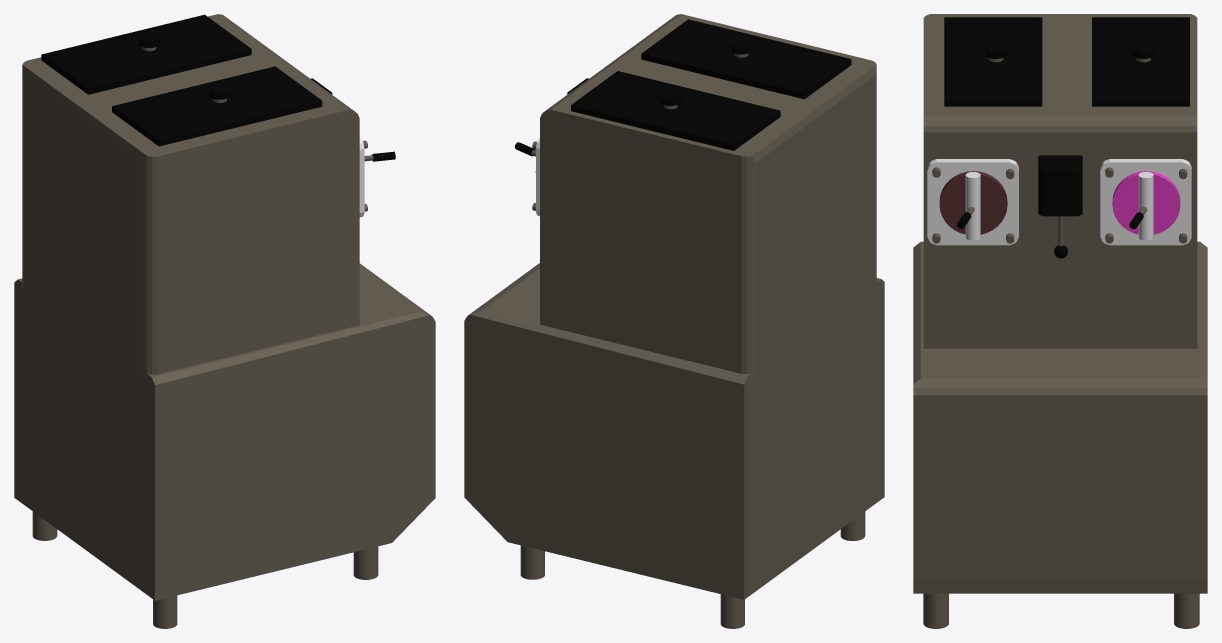
File: smoothie.fbx
3 views of the same model, side by side, from view 1: azimuth 30°, elevation 25°; view 2: azimuth 150°, elevation 25°; view 3: azimuth 270°, elevation 25° (orthographic). The views are drawn at different scales.
Visible parts, largest first — view 1: Cube.003, Cube.002, Cube.004, Cube.005, Cylinder.022, Cylinder.023; view 2: Cube.003, Cube.002, Cube.004, Cube.005, Cylinder.024, Cylinder.021; view 3: Cube.003, Cube.002, Cube.004, Cube.005, Cube, Cube.001, Cube.006, Cylinder.007, Cylinder.008, Cylinder.015, Cylinder, Cylinder.022 (+1 smaller).
Boxes of the visible parts, left/top/right/bottom form: Cube.003: left=14, top=263, right=435, bottom=600; Cube.002: left=22, top=14, right=359, bottom=376; Cube.004: left=112, top=66, right=322, bottom=146; Cube.005: left=41, top=14, right=251, bottom=94; Cylinder.022: left=353, top=546, right=378, bottom=579; Cylinder.023: left=153, top=595, right=177, bottom=628; Cube.003: left=464, top=263, right=884, bottom=599; Cube.002: left=540, top=14, right=876, bottom=376; Cube.004: left=641, top=19, right=851, bottom=99; Cube.005: left=571, top=71, right=780, bottom=150; Cylinder.024: left=720, top=594, right=744, bottom=628; Cylinder.021: left=520, top=545, right=544, bottom=579; Cube.003: left=913, top=241, right=1207, bottom=593; Cube.002: left=923, top=14, right=1197, bottom=348; Cube.004: left=944, top=17, right=1042, bottom=106; Cube.005: left=1092, top=17, right=1189, bottom=106; Cube: left=927, top=159, right=1018, bottom=245; Cube.001: left=1100, top=159, right=1191, bottom=245; Cube.006: left=1038, top=155, right=1082, bottom=216; Cylinder.007: left=939, top=171, right=1007, bottom=234; Cylinder.008: left=1112, top=171, right=1180, bottom=234; Cylinder.015: left=1138, top=172, right=1153, bottom=240; Cylinder: left=965, top=172, right=980, bottom=240; Cylinder.022: left=923, top=593, right=948, bottom=628.
Bounding box in the file's own units: 2.67 × 4.47 × 2.31.
